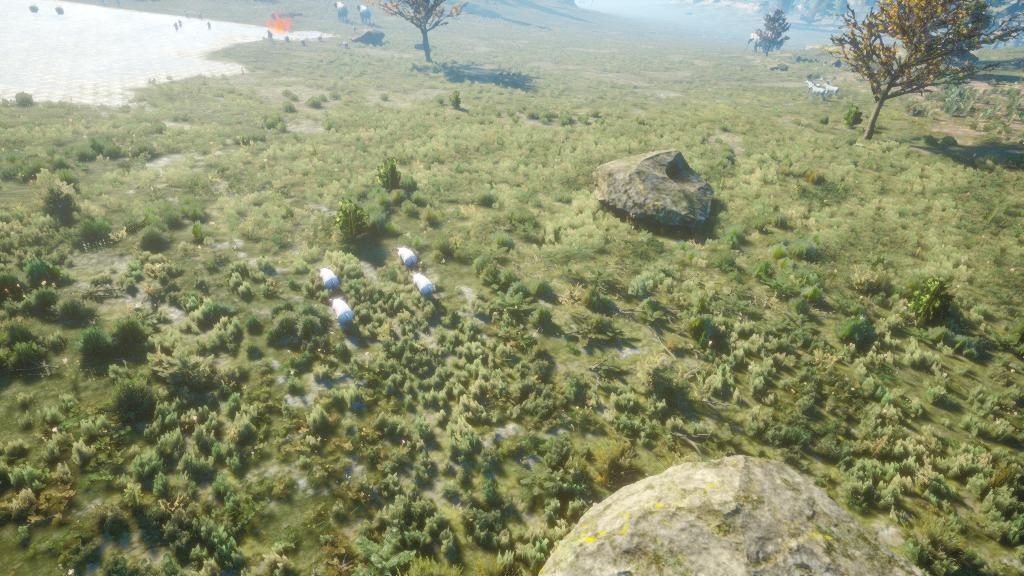Fire: (263, 13, 297, 40)
elephant: (742, 29, 777, 54), (329, 1, 351, 24), (355, 2, 375, 26)
pig: (404, 271, 439, 306), (324, 294, 358, 330), (387, 242, 424, 272), (312, 263, 345, 296)
zebra: (821, 79, 842, 98), (800, 75, 822, 92)
